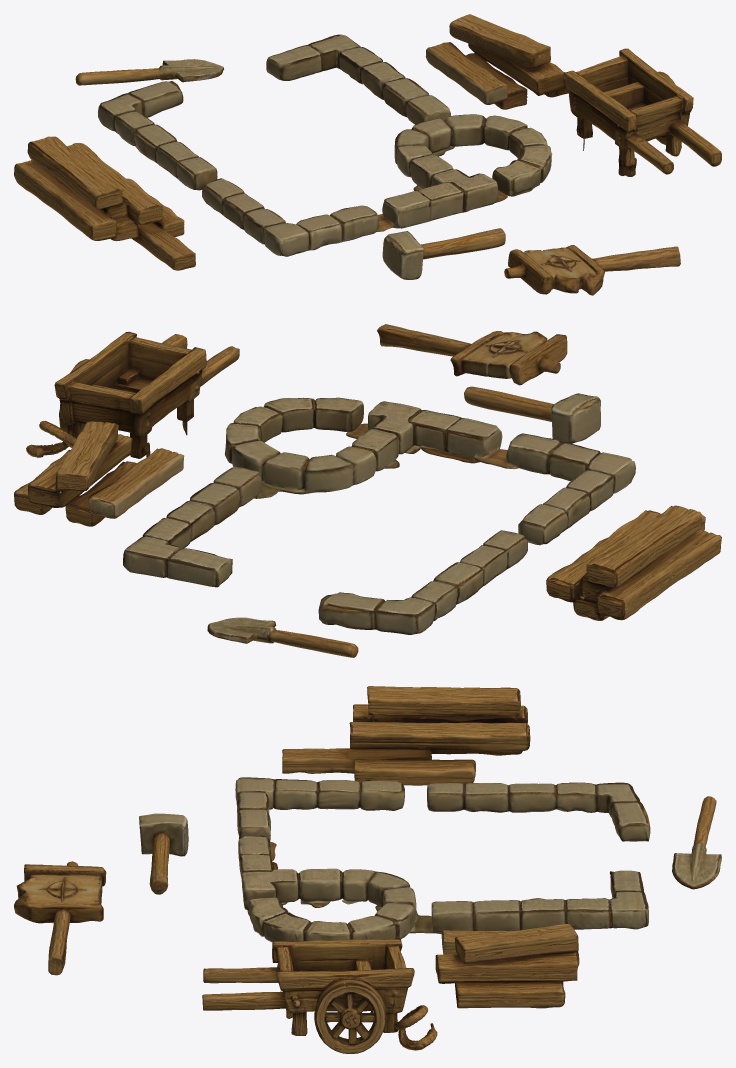
File: tripo_convert_67de4c2e-f99d-457d-a0fe-0158ad1a5f1e.fbx
3 renders of one model, top to bottom at view 1: azimuth 30°, elevation 25°; view 2: azimuth 150°, elevation 25°; view 3: azimuth 270°, elevation 25°, orthographic. The views are drawn at different scales.
Parts seen in each view (by area): view 1: tripo_node_67de4c2e; view 2: tripo_node_67de4c2e; view 3: tripo_node_67de4c2e.
Part boxes in pixels (<box>): tripo_node_67de4c2e: <box>14,14,721,295</box>; tripo_node_67de4c2e: <box>14,324,721,657</box>; tripo_node_67de4c2e: <box>14,686,721,1053</box>.
Bounding box in the file's own units: 0.9786 × 0.1248 × 0.9785.
1 material, 1 textured.
